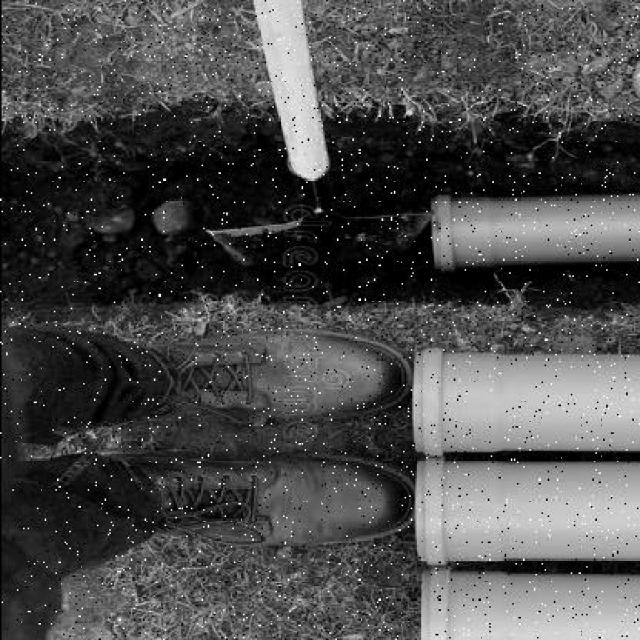shoes: (110, 454, 413, 544), (121, 330, 397, 428)
